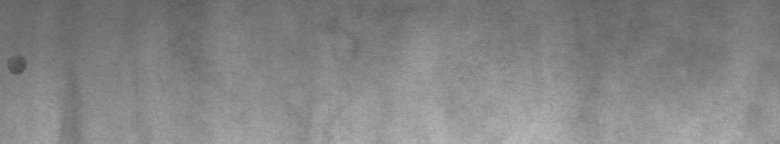fi: (4, 52, 29, 81)
